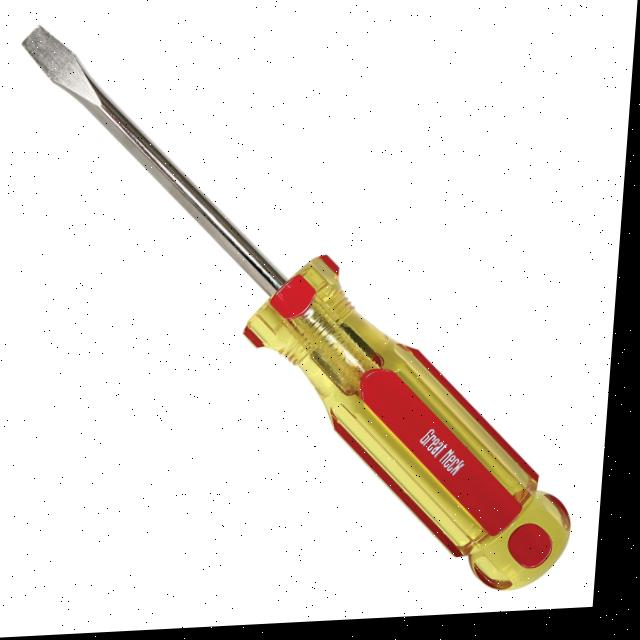Screwdriver: (24, 27, 579, 597)
